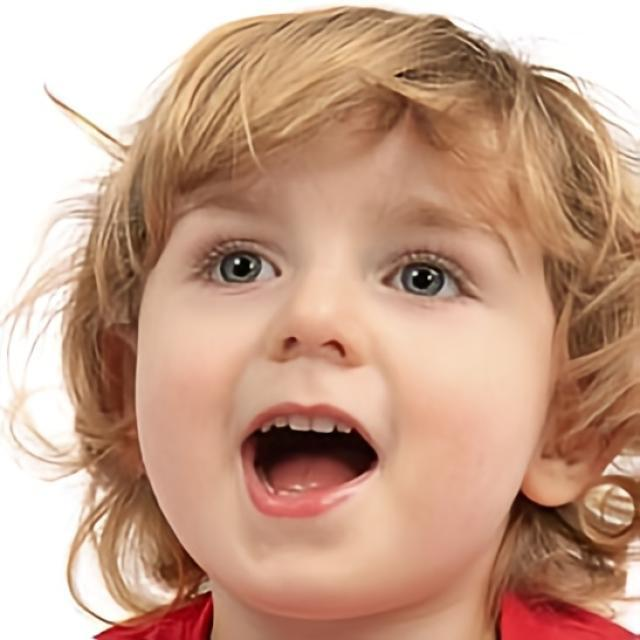surprise: (132, 100, 560, 624)
